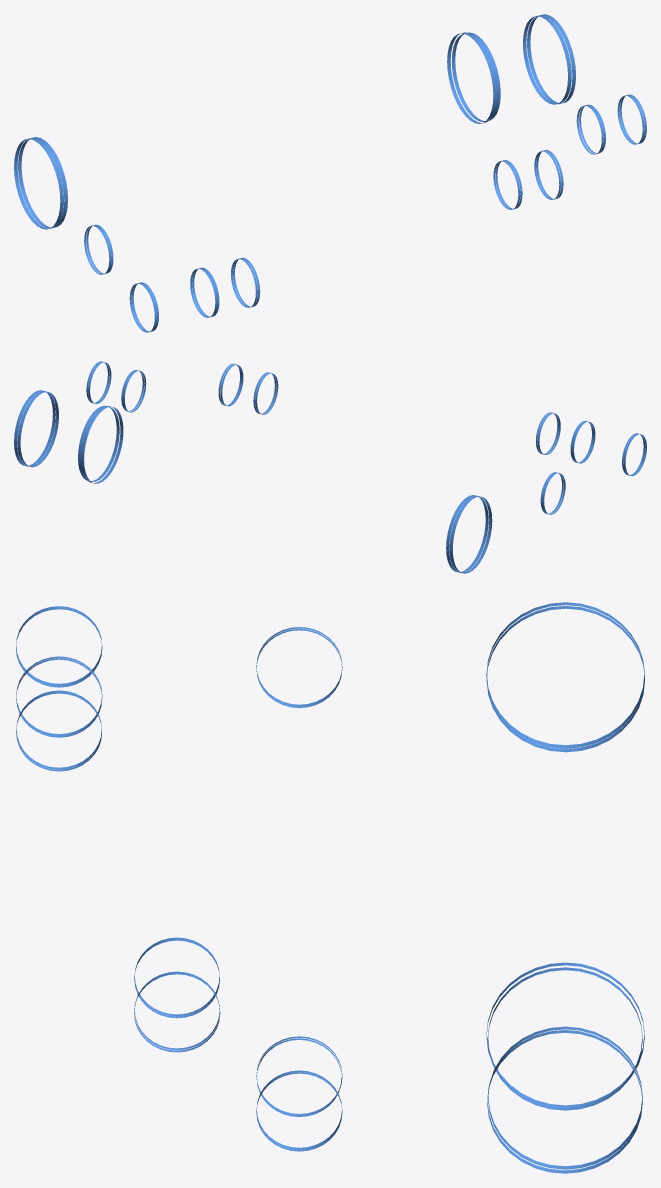
File: RedCircels.fbx
3 renders of one model, top to bottom at view 1: azimuth 30°, elevation 25°; view 2: azimuth 150°, elevation 25°; view 3: azimuth 270°, elevation 25°, orthographic. The views are drawn at different scales.
Visible parts, largest first — view 1: Flanged pipe.083; view 2: Flanged pipe.083; view 3: Flanged pipe.083.
Part boxes in pixels (x1,y1,x2,y2): Flanged pipe.083: (14,14,646,332); Flanged pipe.083: (14,361,646,573); Flanged pipe.083: (16,602,644,1173).
Size of the model in its own units: 331 by 83.61 by 583.
